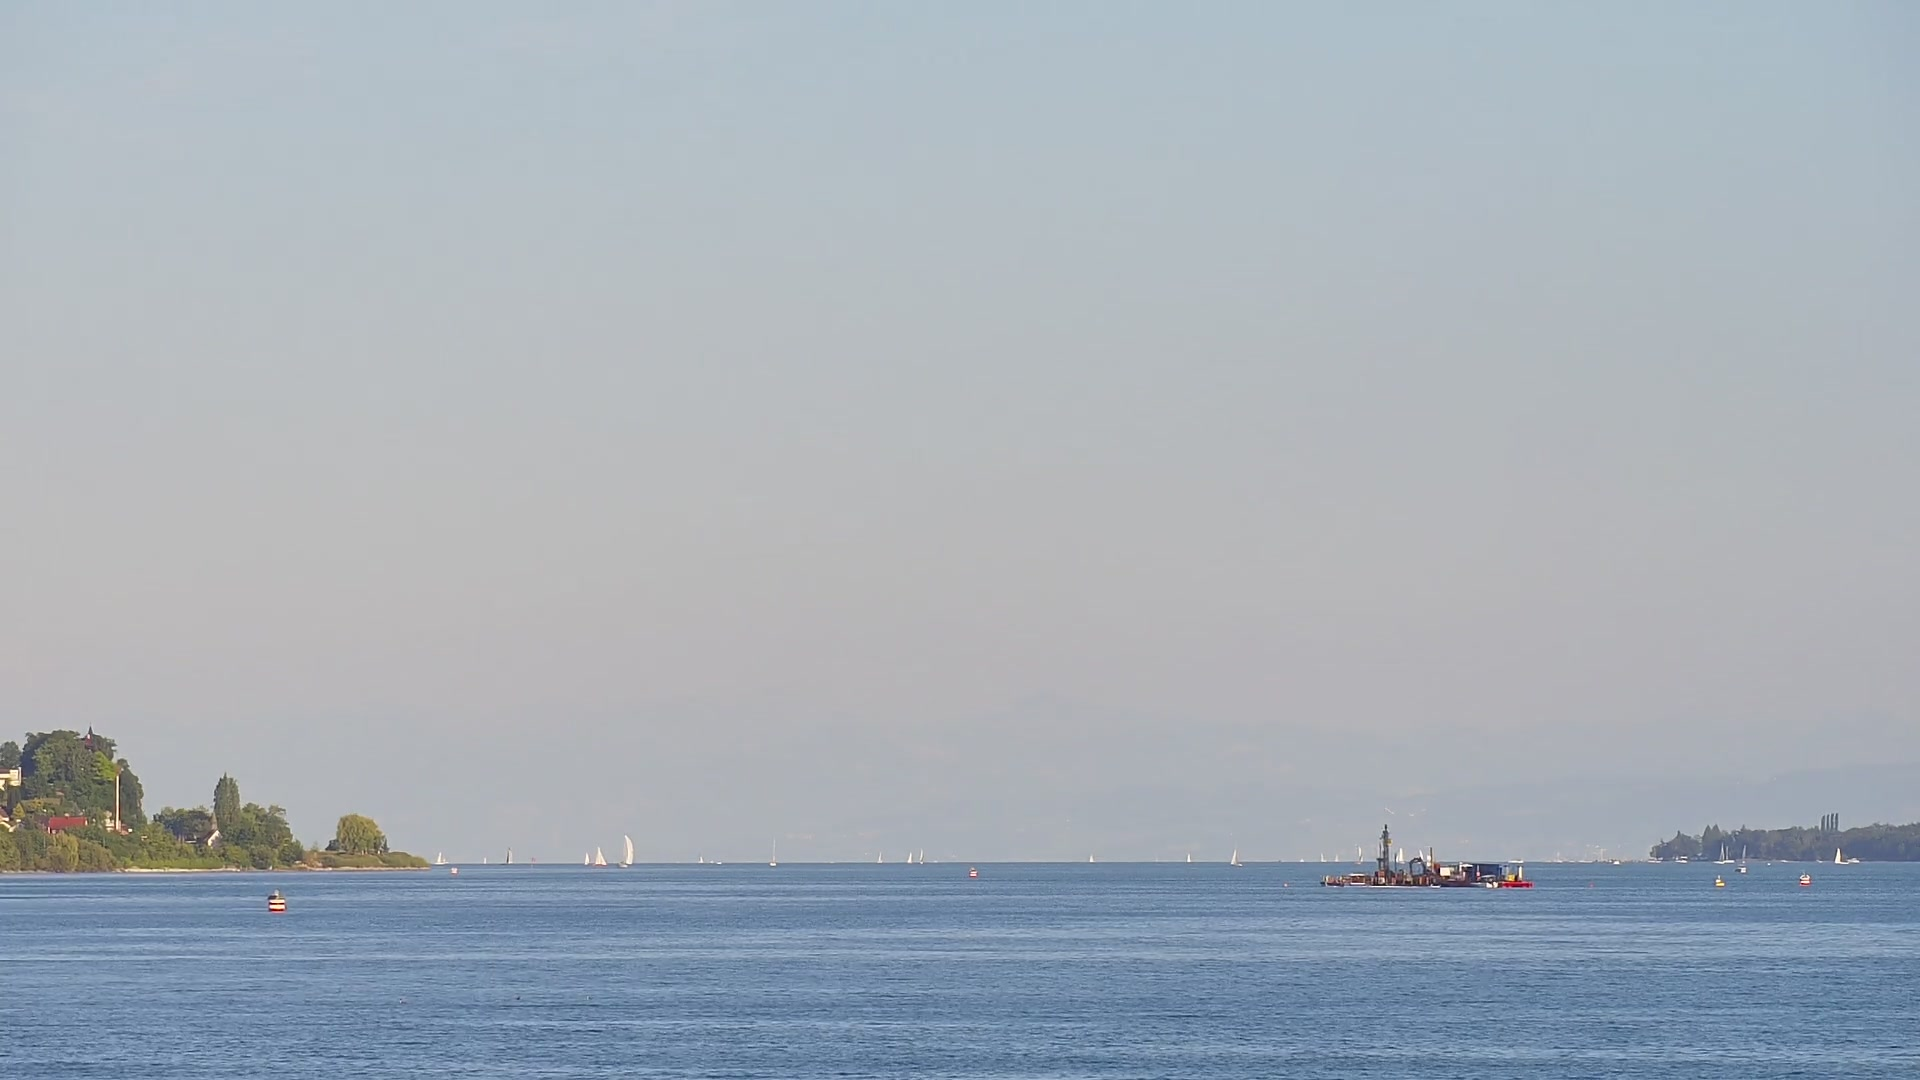sea: (615, 831, 634, 869), (592, 843, 607, 866), (1832, 848, 1849, 866), (1229, 845, 1244, 866), (1352, 844, 1366, 865), (767, 835, 777, 866), (1712, 843, 1725, 864), (1724, 845, 1735, 864), (1394, 847, 1406, 865), (1646, 855, 1664, 865), (433, 849, 444, 865), (504, 845, 513, 865), (1739, 844, 1749, 864), (1734, 862, 1749, 874), (1672, 855, 1688, 864), (582, 851, 589, 866), (916, 847, 924, 862), (1577, 857, 1593, 865), (1553, 851, 1563, 864), (905, 849, 913, 864), (1319, 851, 1328, 862), (876, 851, 884, 862), (1184, 851, 1192, 862), (1847, 856, 1859, 864), (481, 855, 488, 865), (1088, 853, 1095, 864), (698, 855, 704, 864), (1611, 858, 1621, 865), (1298, 856, 1305, 862), (716, 860, 723, 865)
